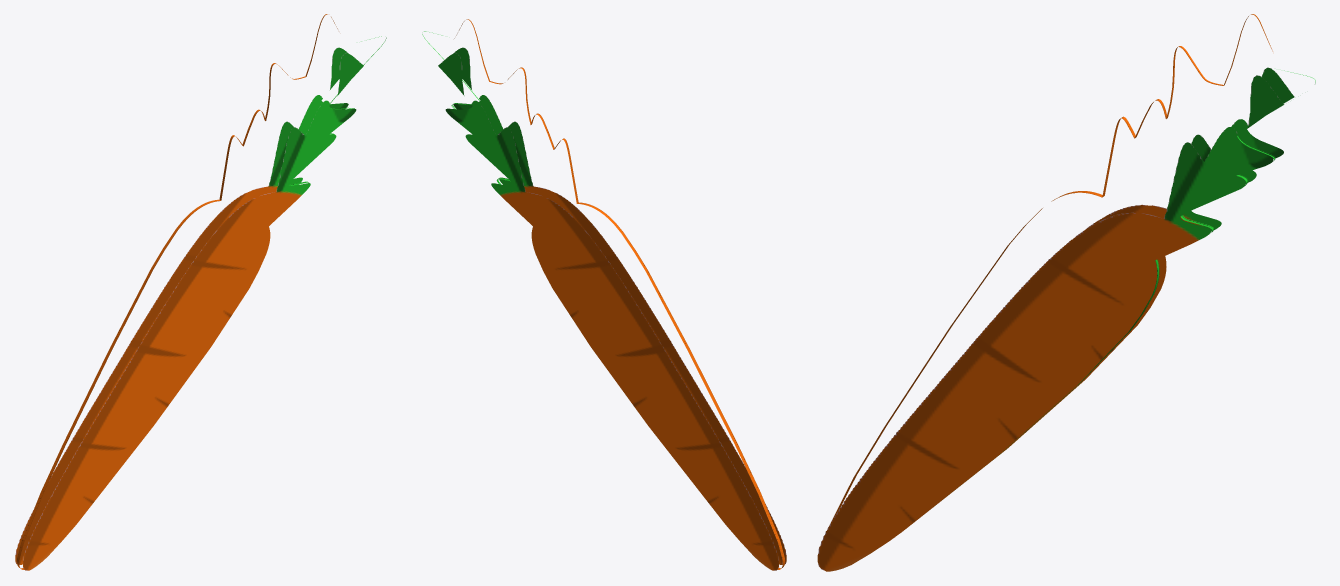
Rendered from carrot.fbx.
The picture shows the model from 3 angles, left to right: view 1: azimuth 30°, elevation 25°; view 2: azimuth 150°, elevation 25°; view 3: azimuth 330°, elevation 25°; orthographic projection. The views are drawn at different scales.
Parts seen in each view (by area): view 1: carrot; view 2: carrot; view 3: carrot.
Boxes of the visible parts, left/top/right/bottom form: carrot: left=15, top=14, right=386, bottom=570; carrot: left=422, top=19, right=786, bottom=570; carrot: left=817, top=14, right=1315, bottom=571.
Bounding box in the file's own units: 9.61 × 12.01 × 0.3528.
Materials: 1 (1 with a texture image).
